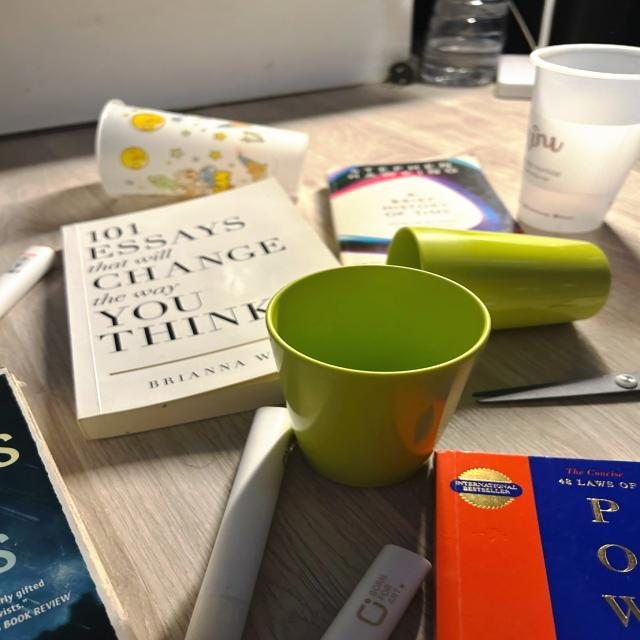Book: (62, 179, 338, 419), (436, 451, 639, 640), (0, 368, 136, 640), (328, 157, 519, 263)
HighLight Pen: (185, 408, 294, 640), (321, 545, 431, 640), (0, 246, 55, 318)
Plastic Cup: (518, 44, 639, 236), (96, 100, 307, 200)
Scissors: (473, 372, 639, 403)
WaterGlass: (266, 266, 490, 487), (387, 227, 611, 330)
